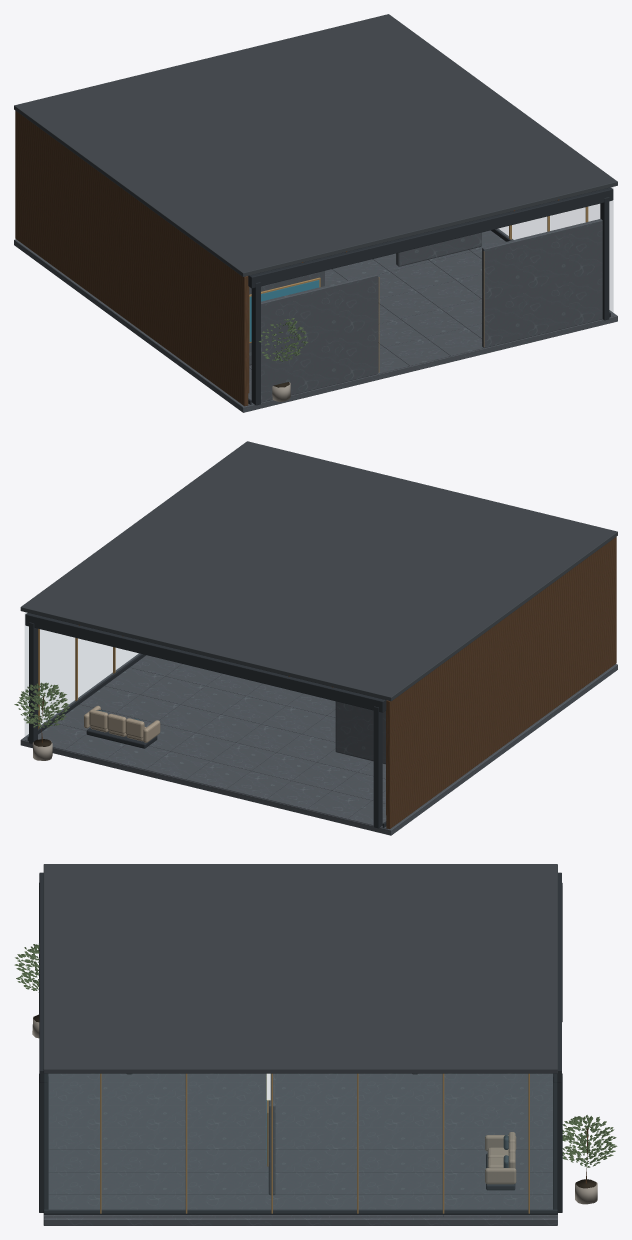
Rendered from environment-3.glb.
3 renders of one model, top to bottom at view 1: azimuth 30°, elevation 25°; view 2: azimuth 150°, elevation 25°; view 3: azimuth 270°, elevation 25°, orthographic. The views are drawn at different scales.
Parts seen in each view (by area): view 1: Continuous floor slab; view 2: Continuous floor slab; view 3: Continuous floor slab.
Part boxes in pixels (x1,y1,x2,y2): Continuous floor slab: [14, 14, 617, 412]; Continuous floor slab: [14, 441, 617, 835]; Continuous floor slab: [14, 864, 617, 1225].
Size of the model in its own units: 17 by 6.07 by 21.15.
13 materials, 4 textured.
